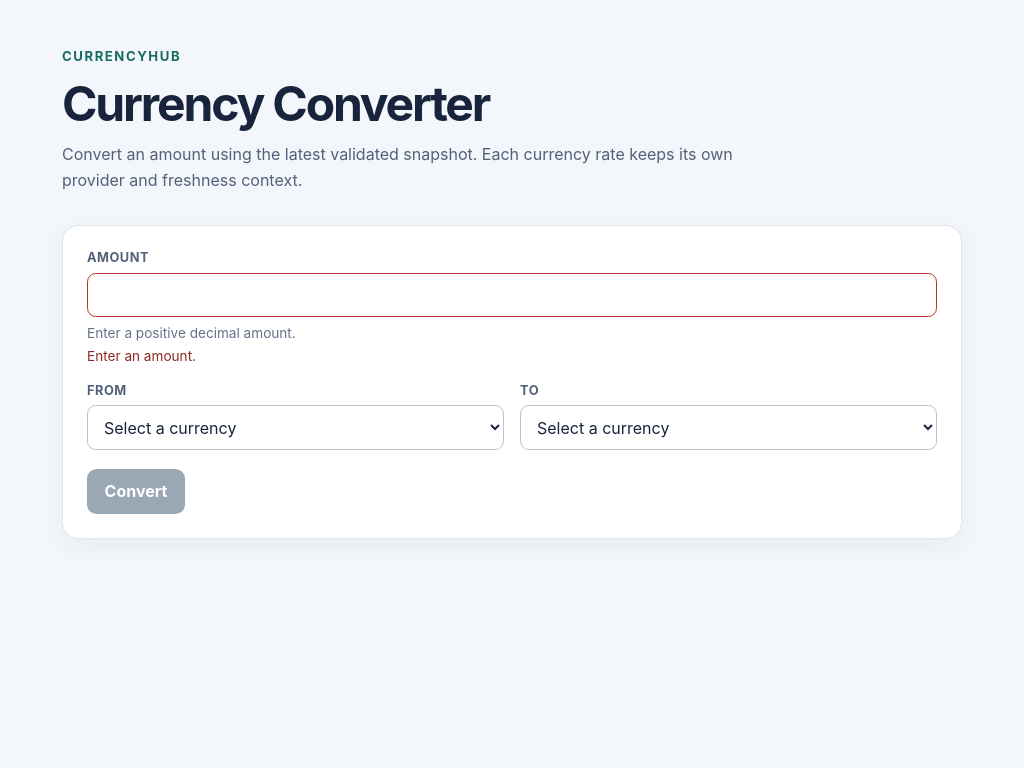
ConverterComponent › maps conversion_unavailable to a clear sanitized message
In the field with id "amount": [512, 295] box [87,273,937,317], type "123.456789012345678901"
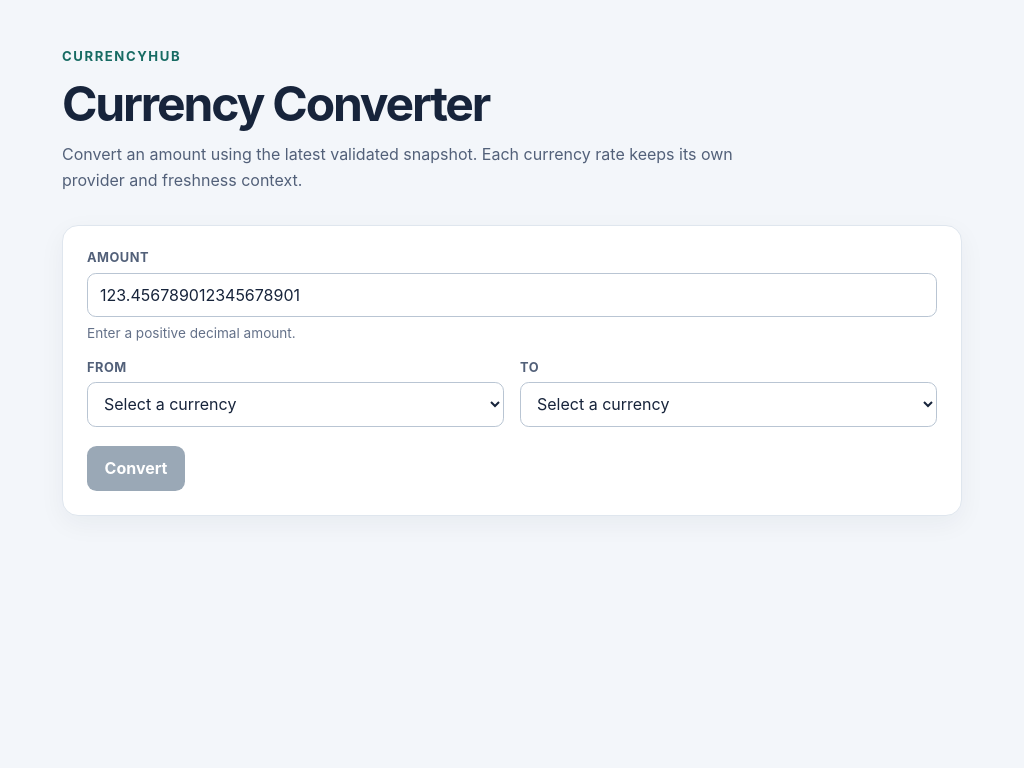
Select "EUR — Euro" in the dropdown with id "source-currency": [296, 404] box [87,382,504,427]
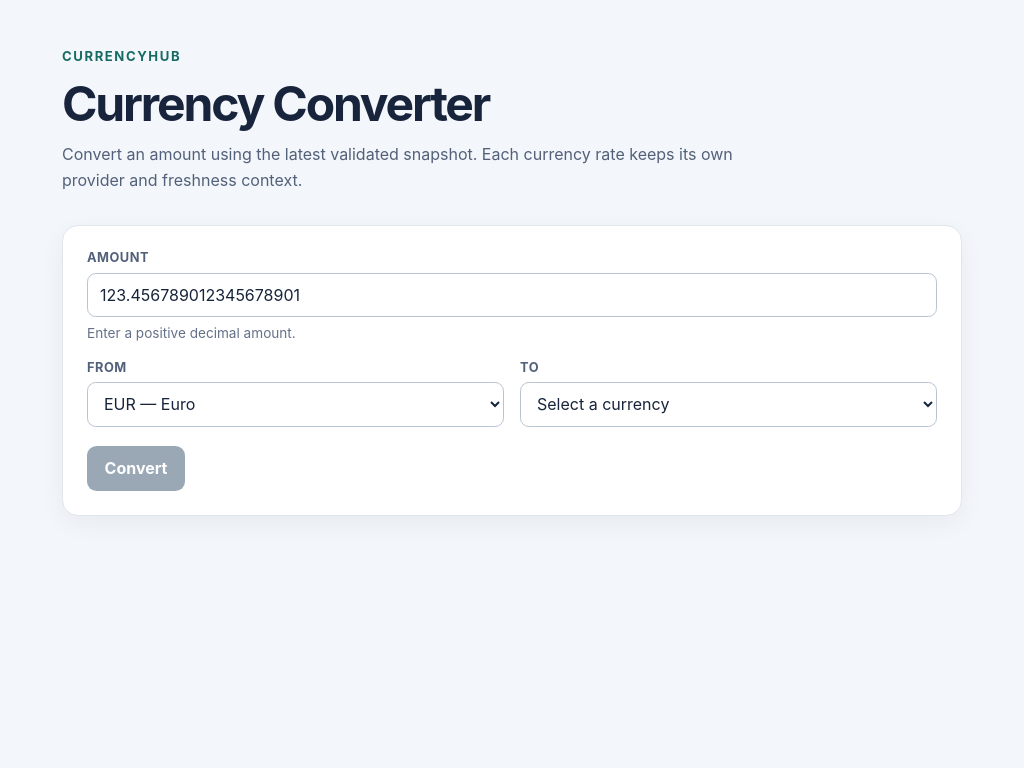
Select "BTC — Bitcoin" in the dropdown with id "target-currency": [728, 404] box [520,382,937,427]
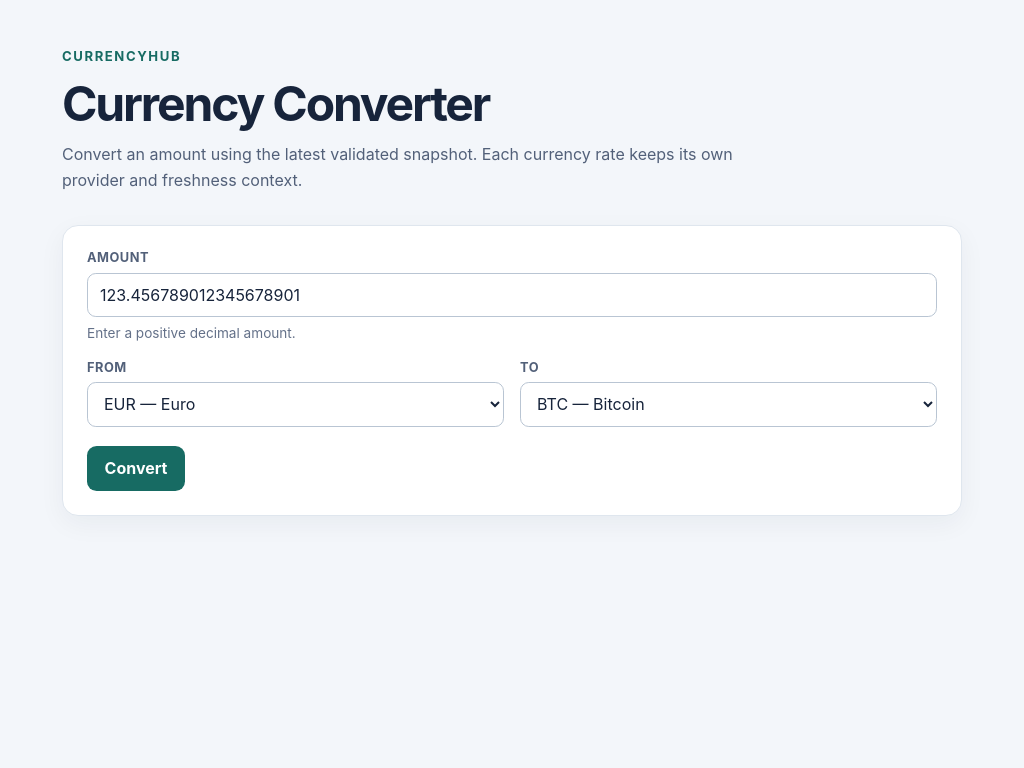
Click the submit button: [136, 468] box [87,446,185,491]
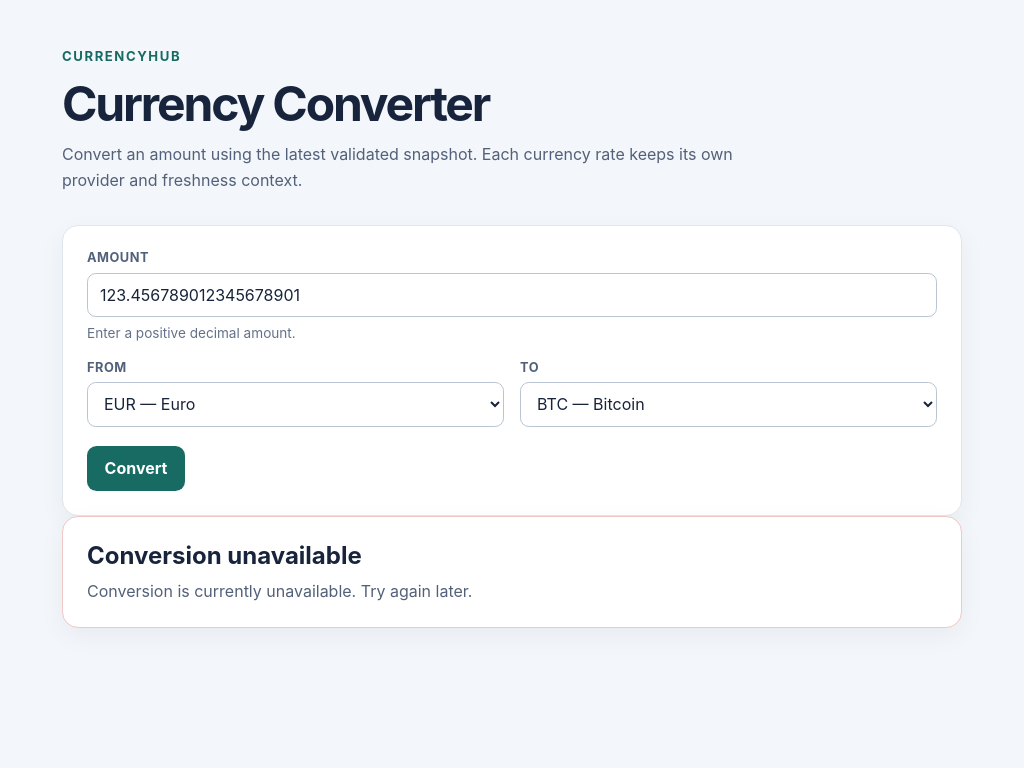
Expected: the text "Conversion is currently unavailable. Try again later." is shown, [87,579,472,603]
